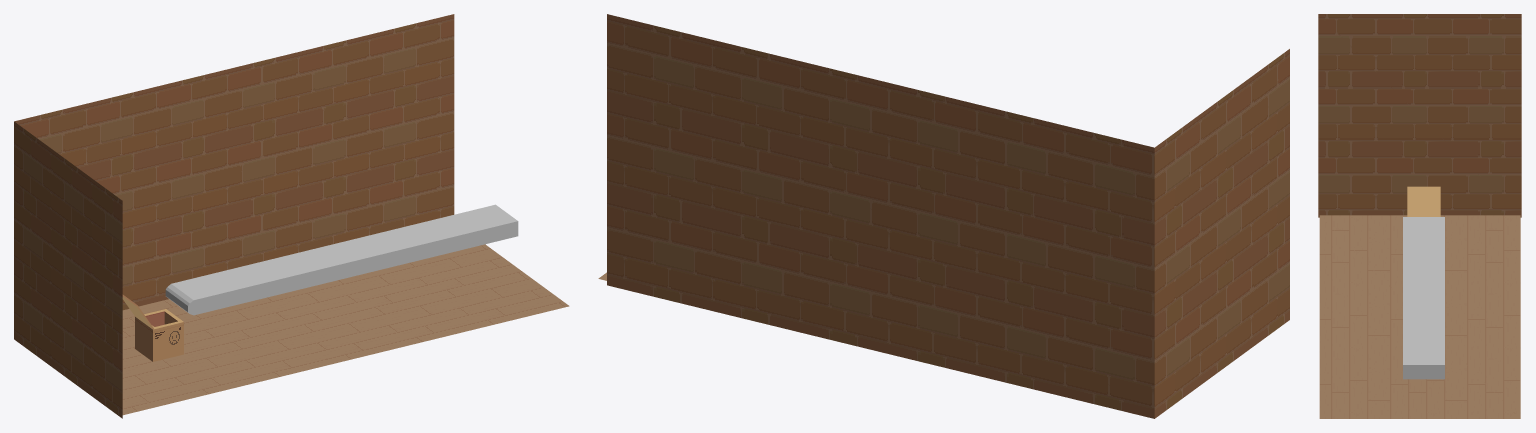
The model's file is kick_the_puppet_scene.fbx.
The picture shows the model from 3 angles, left to right: view 1: azimuth 30°, elevation 25°; view 2: azimuth 150°, elevation 25°; view 3: azimuth 270°, elevation 25°; orthographic projection. The views are drawn at different scales.
Visible parts, largest first — view 1: wall, floor, conveyor_belt, box; view 2: wall; view 3: wall, floor, conveyor_belt, box_lid.
Boxes of the visible parts, left/top/right/bottom form: wall: left=14, top=14, right=454, bottom=418; floor: left=122, top=244, right=569, bottom=415; conveyor_belt: left=165, top=204, right=518, bottom=315; box: left=135, top=309, right=183, bottom=361; wall: left=607, top=14, right=1289, bottom=418; wall: left=1318, top=14, right=1521, bottom=217; floor: left=1319, top=215, right=1520, bottom=418; conveyor_belt: left=1403, top=217, right=1444, bottom=379; box_lid: left=1407, top=186, right=1440, bottom=216.
Size of the model in its own units: 1238 by 576 by 520.
